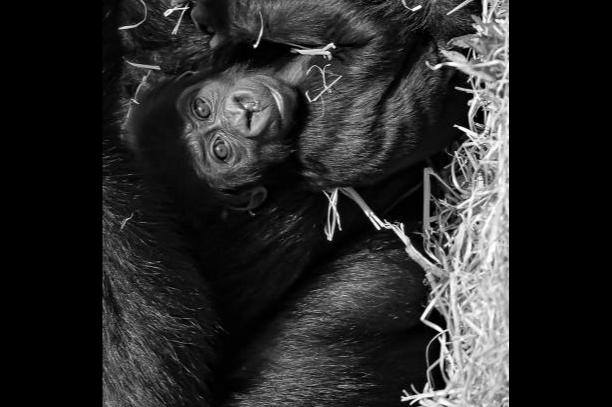gorille_Autres: (151, 0, 473, 247)
